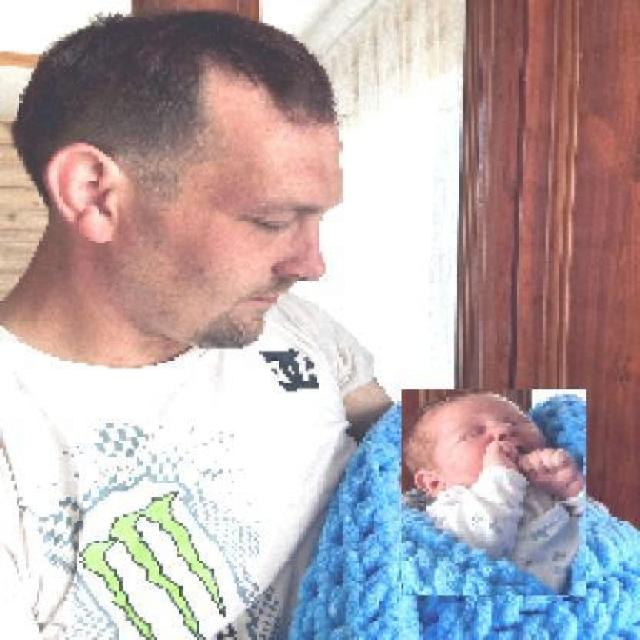child: (400, 389, 586, 597)
